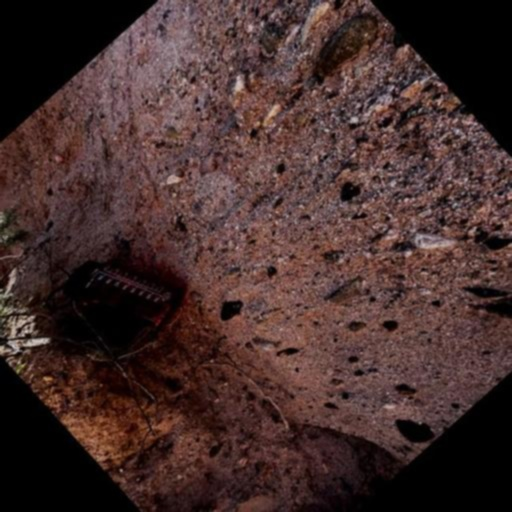bottle: (48, 212, 205, 368)
